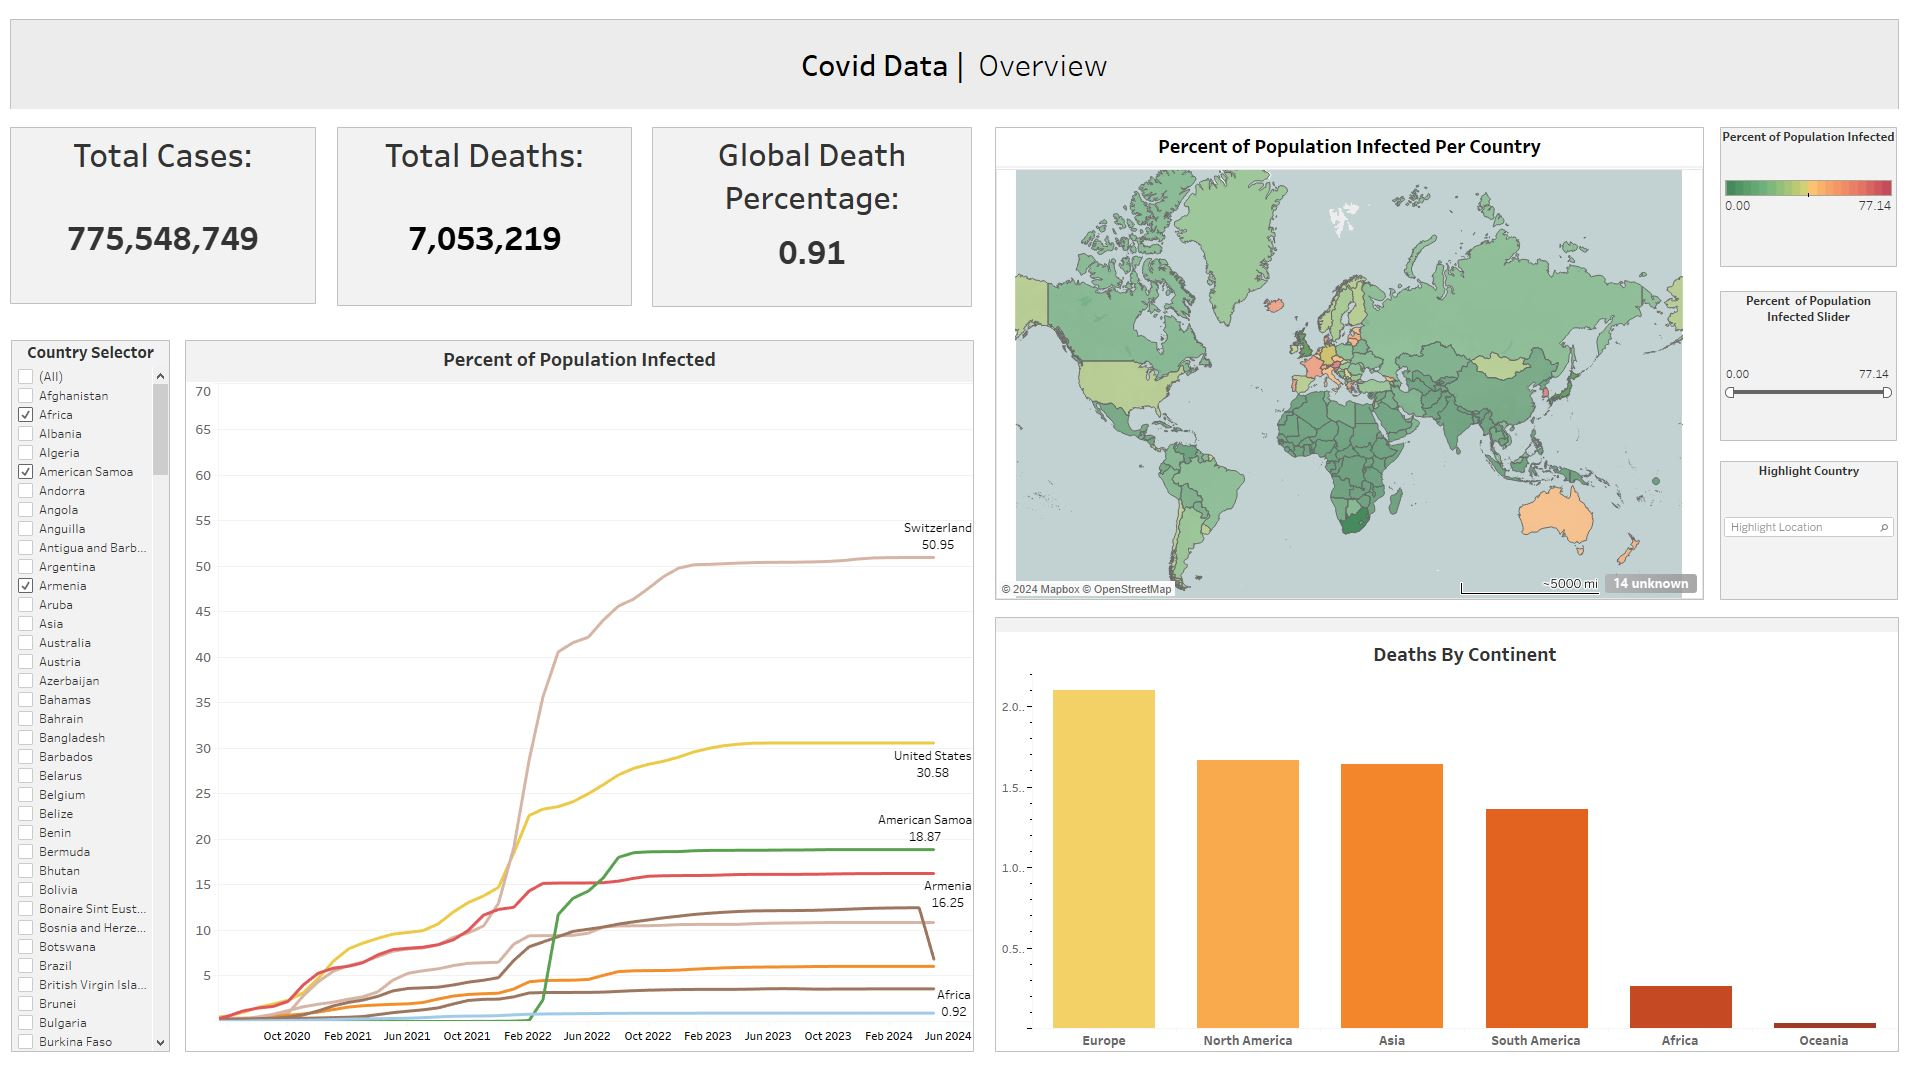

What the dashboard file says about the page in this screenshot:
{"tool":"tableau","page":{"name":"Dashboard 1","canvas":[1000,1000],"units":"permille","ordinal":0},"visuals":[{"type":"text","box":[8.1,22.2,983.9,83.9]},{"type":"worksheet","title":"Sheet 5","mark":"Automatic","box":[8.4,121.8,162.9,118.7]},{"type":"worksheet","title":"Sheet 1","mark":"Automatic","box":[176.8,121.8,135.7,118.7]},{"type":"legend","title":"Sheet 3","param":"[federated.1v0venz0lax2jb14ocoi60qk9zp6].[sum:PercentofPopulationInfected:qk]","box":[900,121.8,90.7,129.8]},{"type":"worksheet","title":"Sheet 6","mark":"Automatic","box":[318.4,122.6,135.3,118.7]},{"type":"worksheet","title":"Sheet 3","mark":"Automatic","box":[460.5,122.6,433.6,437.5]},{"type":"worksheet","title":"Sheet 4","mark":"Automatic","rows":["PercentofPopulationInfected"],"cols":["Date"],"box":[67.8,253.2,386.5,725.5]},{"type":"filter","title":"Sheet 4","param":"[federated.1bq3a581mszvew195ph1k0ynwtlv].[none:Location:nk]","box":[8.4,254,52,724.7]},{"type":"filter","title":"Sheet 3","param":"[federated.1v0venz0lax2jb14ocoi60qk9zp6].[sum:PercentofPopulationInfected:qk]","box":[900.6,273.7,90.1,139.2]},{"type":"highlighter","title":"Sheet 3","param":"[federated.1v0venz0lax2jb14ocoi60qk9zp6].[none:Location:nk]","box":[900.6,431.2,90.7,129]},{"type":"worksheet","title":"Sheet 2","mark":"Automatic","rows":["TotalDeathCount"],"cols":["location"],"box":[460.8,576,530.8,402.7]}]}

Visuals, with their boxes on the dashboard's canvas, which has no fixed pixel size, in thousandths of its width and height (x1, y1, x2, y2). These are canvas units, not pixel positions in the 1911x1069 screenshot, which may show the page scaled, cropped or inside an application window:
text: locate(8, 22, 992, 106)
"Sheet 5" worksheet: locate(8, 122, 171, 240)
"Sheet 1" worksheet: locate(177, 122, 312, 240)
"Sheet 3" legend: locate(900, 122, 991, 252)
"Sheet 6" worksheet: locate(318, 123, 454, 241)
"Sheet 3" worksheet: locate(460, 123, 894, 560)
"Sheet 4" worksheet: locate(68, 253, 454, 979)
"Sheet 4" filter: locate(8, 254, 60, 979)
"Sheet 3" filter: locate(901, 274, 991, 413)
"Sheet 3" highlighter: locate(901, 431, 991, 560)
"Sheet 2" worksheet: locate(461, 576, 992, 979)
